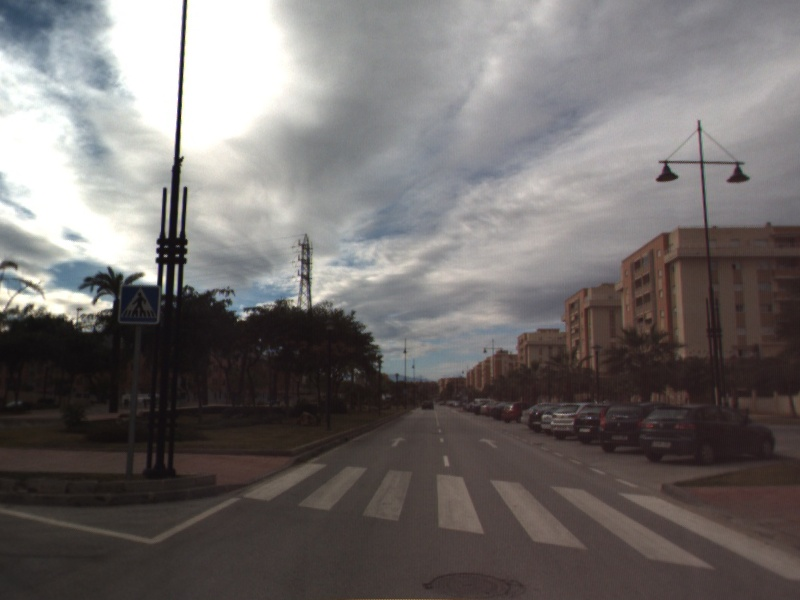STRAIGHT: (477, 436, 500, 450), (389, 435, 408, 449)
